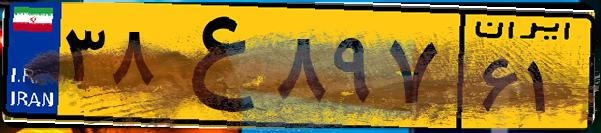1: (525, 38, 570, 115)
3: (57, 26, 110, 100)
6: (475, 38, 525, 113)
7: (385, 28, 445, 110)
8: (270, 28, 330, 110), (110, 28, 158, 98)
9: (330, 28, 385, 110)
ع: (158, 12, 270, 120)
